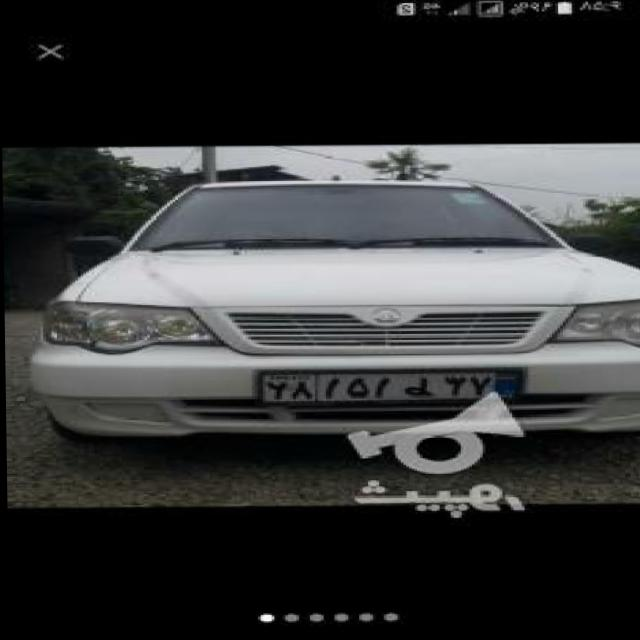licence: (256, 369, 532, 400)
